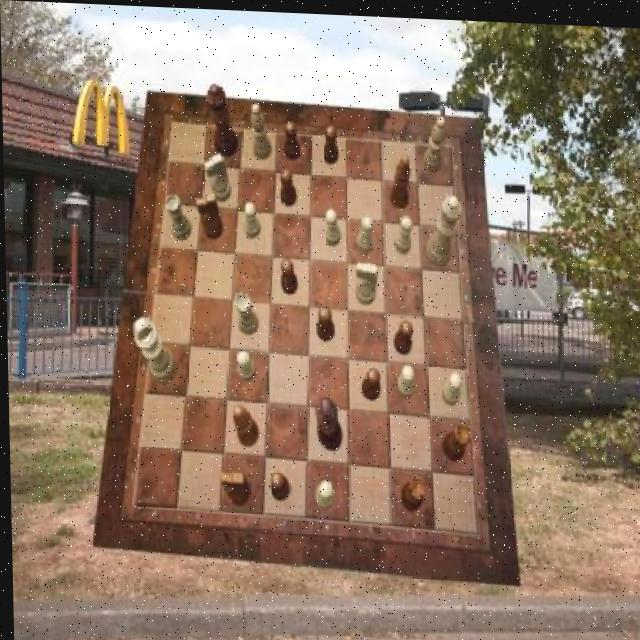bishop: (388, 150, 410, 205), (233, 403, 258, 446)
black-bishop: (314, 392, 342, 448)
black-king: (196, 190, 223, 237), (219, 469, 249, 504)
black-knight: (393, 317, 413, 352), (322, 122, 339, 163), (283, 119, 300, 158), (280, 167, 297, 205), (268, 469, 289, 499), (316, 303, 334, 338), (360, 363, 378, 397), (280, 257, 297, 292)
black-pawn: (206, 81, 240, 156)
black-queen: (441, 418, 471, 458), (399, 472, 424, 509)
black-rook: (422, 113, 446, 170), (251, 101, 272, 158)
white-bishop: (132, 315, 175, 382)
white-king: (204, 150, 231, 200), (354, 260, 377, 303)
white-knight: (440, 369, 461, 404), (356, 212, 374, 251), (394, 212, 412, 251), (235, 348, 255, 381), (243, 201, 261, 237), (323, 207, 341, 243), (395, 361, 413, 396), (313, 478, 332, 507)
white-pawn: (425, 191, 463, 265)
white-queen: (165, 193, 192, 240), (234, 289, 259, 333)
